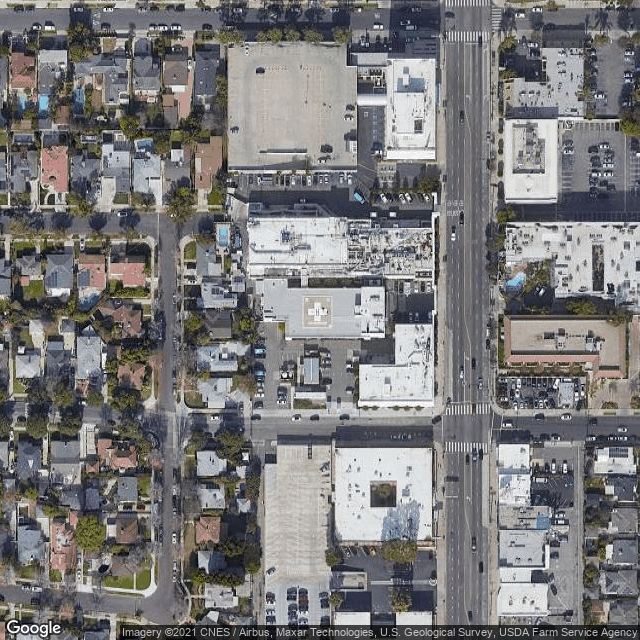Helipad: (300, 291, 335, 331)
